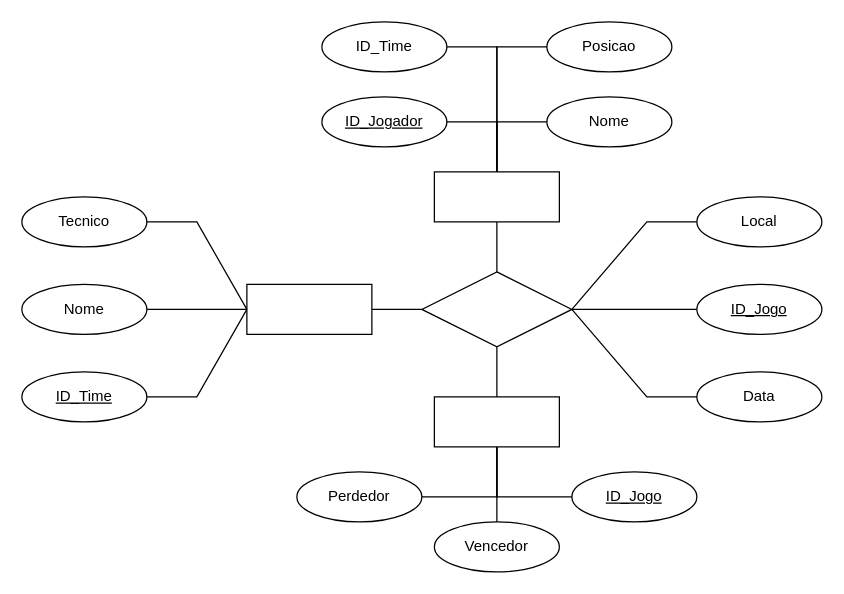
Some shapes in this 844 by 594 pixel diagram are drawn without their labels. Each missing label, with the box of its shape:
Jogador: (433, 171, 559, 222)
Jogo: (421, 271, 572, 347)
Resultado: (433, 396, 559, 447)
Time: (246, 283, 372, 334)
